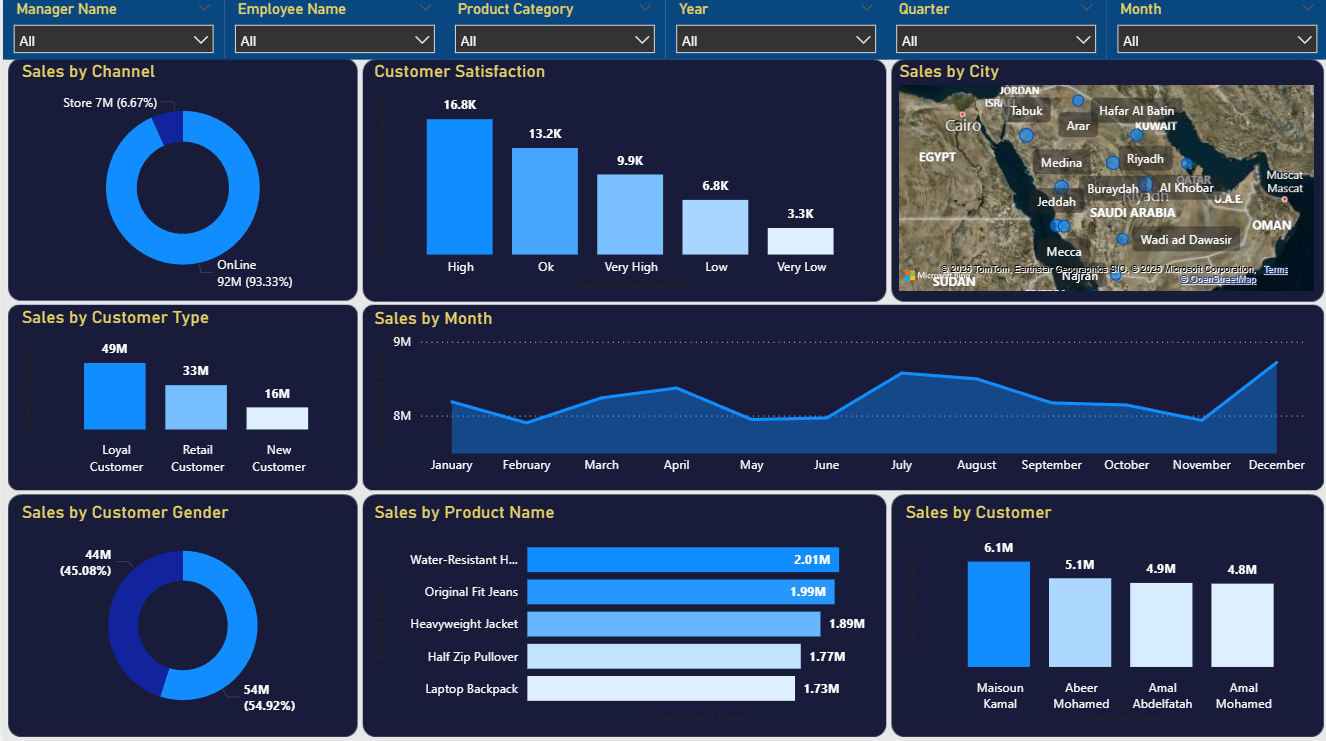

The page's visual inventory and layout, read from the dashboard file:
{"tool":"powerbi","page":{"name":"Page ١","canvas":[1280,720],"ordinal":0},"visuals":[{"type":"map","title":"Sales by City","fields":{"Category":["Sales Data.City"],"Size":["Sales Data.Total Sales"]},"box":[860.4,63.1,410.3,227.8],"z":0},{"type":"donutChart","title":"Sales by Channel","fields":{"Category":["Sales Data.Channel"],"Y":["Sales Data.Total Sales"]},"box":[13.7,63.1,321.1,227.8],"z":1000},{"type":"clusteredColumnChart","title":" Customer Satisfaction","fields":{"Category":["Sales Data.Customer Satisfaction"],"Y":["Sales Data.Customer Satisfaction"]},"box":[354,63.1,488.5,227.8],"z":2000},{"type":"clusteredColumnChart","title":" Sales by Customer Type","fields":{"Category":["Sales Data.Customer Type"],"Y":["Sales Data.Total Sales"]},"box":[13.7,300.5,321.1,170.2],"z":3000},{"type":"lineChart","title":"Sales by Month","fields":{"Category":["Sales Data.Invoice Date.Variation.Date Hierarchy.Month"],"Y":["Sales Data.Total Sales"]},"box":[353.5,301.6,912.1,170.1],"z":4000},{"type":"donutChart","title":"Sales by Customer Gender","fields":{"Category":["Sales Data.Customer Gender"],"Y":["Sales Data.Total Sales"]},"box":[13.7,488.5,321.1,220.9],"z":5000},{"type":"clusteredBarChart","title":" Sales by Product Name","fields":{"Category":["Sales Data.Product Name"],"Y":["Sales Data.Total Sales"]},"box":[354,488.5,488.5,220.9],"z":6000},{"type":"clusteredColumnChart","title":"Sales by Customer ","fields":{"Category":["Sales Data.Customer Name"],"Y":["Sales Data.Total Sales"]},"box":[865.9,488.5,399.3,220.9],"z":7000},{"type":"slicer","fields":{"Values":["Sales Data.Manager Name"]},"box":[0,0,213.5,62.7],"z":7001},{"type":"slicer","fields":{"Values":["Sales Data.Employee Name"]},"box":[213.1,0,213.5,62.7],"z":7002},{"type":"slicer","fields":{"Values":["Sales Data.Product Category"]},"box":[426.1,0,213.5,62.7],"z":7003},{"type":"slicer","fields":{"Values":["Sales Data.Invoice Date.Variation.Date Hierarchy.Year"]},"box":[639.2,0,213.5,62.7],"z":7004},{"type":"slicer","fields":{"Values":["Sales Data.Invoice Date.Variation.Date Hierarchy.Quarter"]},"box":[852.2,0,213.5,62.7],"z":7005},{"type":"slicer","fields":{"Values":["Sales Data.Invoice Date.Variation.Date Hierarchy.Month"]},"box":[1065.3,0,213.5,62.7],"z":7006}]}

Visuals, with their boxes in screenshot pixels (x1, y1, x2, y2), scaled from the page's 1280x720 canvas onto the 1326x741 screenshot:
"Sales by City" map: (891, 65, 1316, 299)
"Sales by Channel" donutChart: (14, 65, 347, 299)
" Customer Satisfaction" clusteredColumnChart: (367, 65, 873, 299)
" Sales by Customer Type" clusteredColumnChart: (14, 309, 347, 484)
"Sales by Month" lineChart: (366, 310, 1311, 485)
"Sales by Customer Gender" donutChart: (14, 503, 347, 730)
" Sales by Product Name" clusteredBarChart: (367, 503, 873, 730)
"Sales by Customer " clusteredColumnChart: (897, 503, 1311, 730)
slicer - Sales Data.Manager Name: (0, 0, 221, 65)
slicer - Sales Data.Employee Name: (221, 0, 442, 65)
slicer - Sales Data.Product Category: (441, 0, 663, 65)
slicer - Sales Data.Invoice Date.Variation.Date Hierarchy.Year: (662, 0, 883, 65)
slicer - Sales Data.Invoice Date.Variation.Date Hierarchy.Quarter: (883, 0, 1104, 65)
slicer - Sales Data.Invoice Date.Variation.Date Hierarchy.Month: (1104, 0, 1325, 65)
